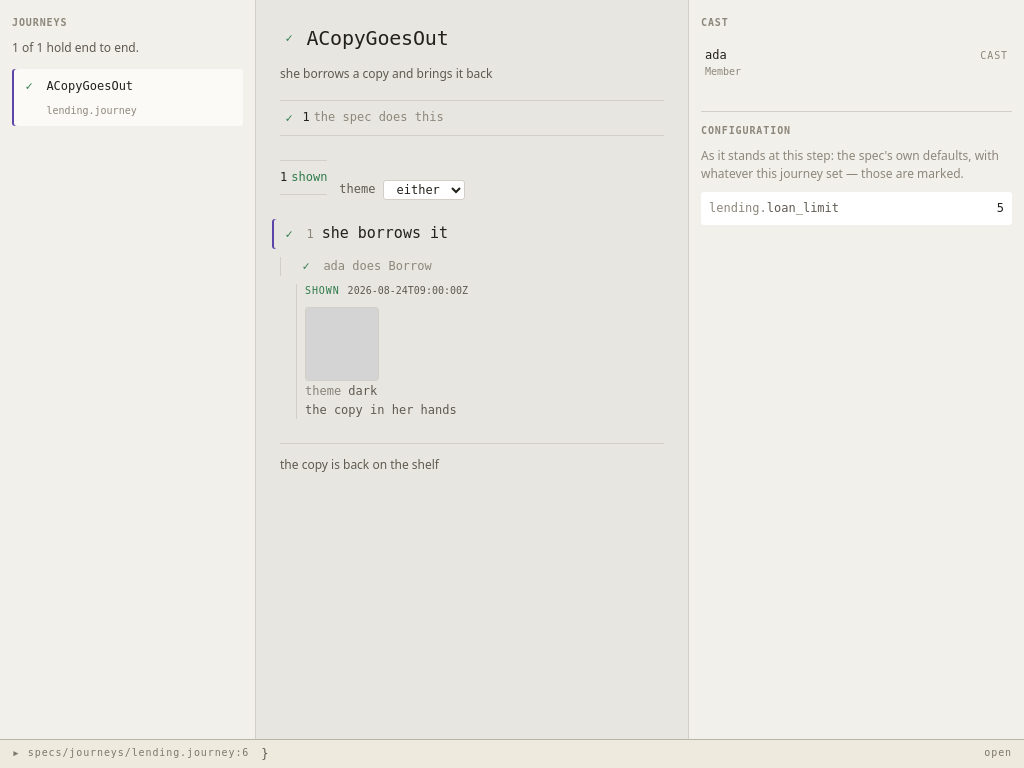
Journeys cast panel › evidence › tags › says so when narrowing hides every picture of a step
Step 1. Select "light" in the dropdown labelled "theme" → point(424, 190), box [384, 180, 466, 200]
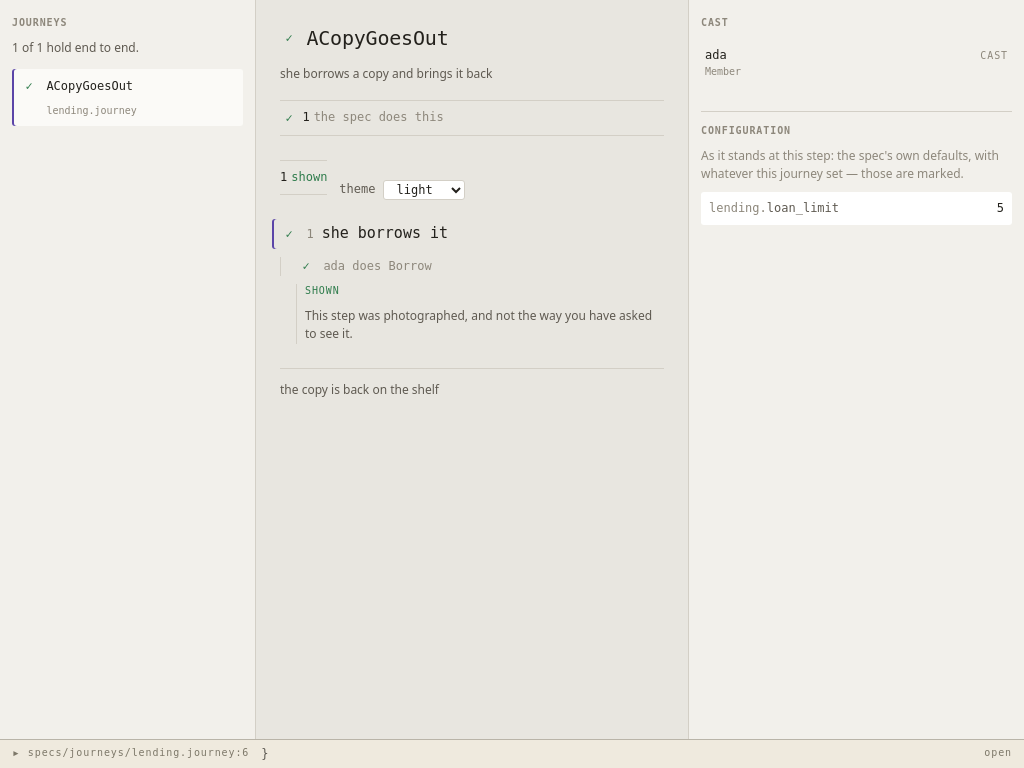
Check: the text "shown" next to "theme" is shown, box [291, 170, 327, 184]
Check: the text "the copy in her hands" is gone
Check: the text "not the way you have asked to see it" is shown, box [305, 307, 652, 342]
